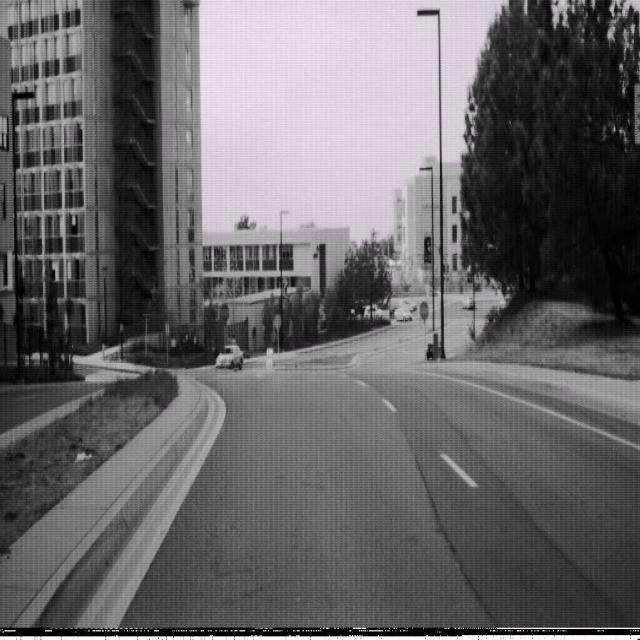stop_sign: (419, 299, 429, 321)
